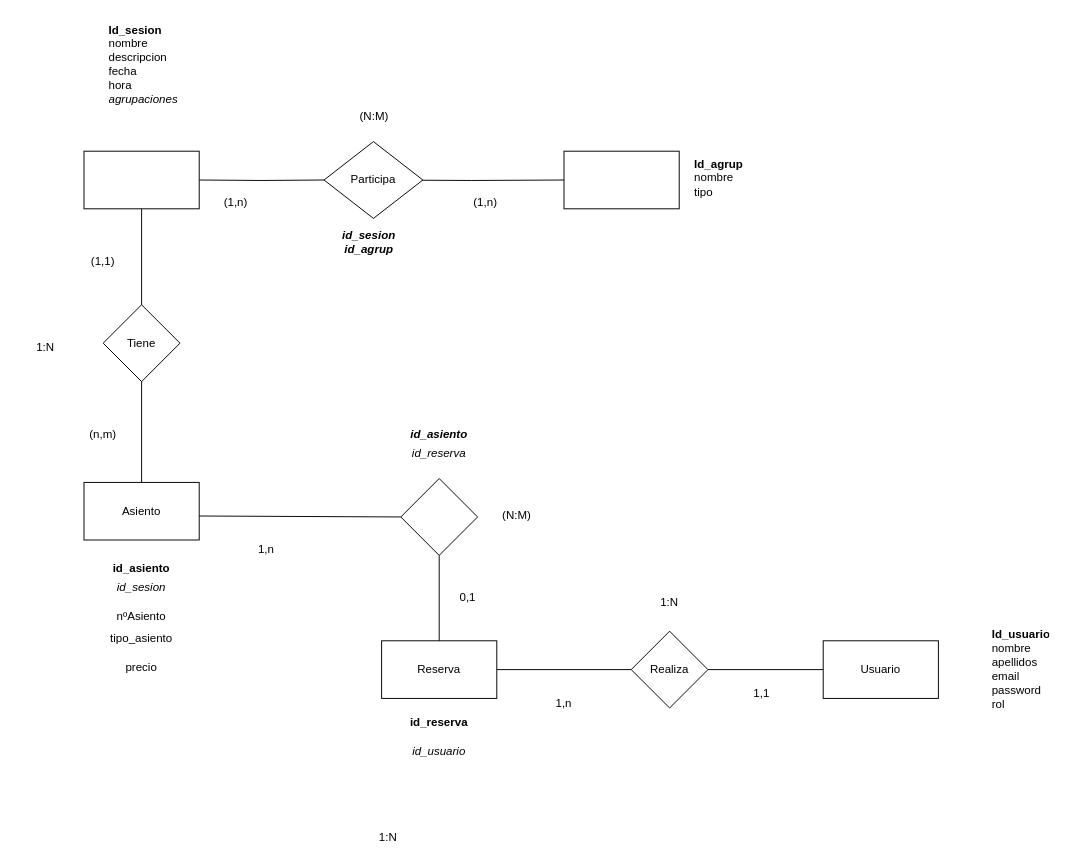
Some shapes in this 1069 by 868 pixel diagram are drawn without their labels. Each missing label, with the centre of its shape:
Agrupación: point (621, 179)
contiene: point (439, 516)
Sesión: point (141, 179)
